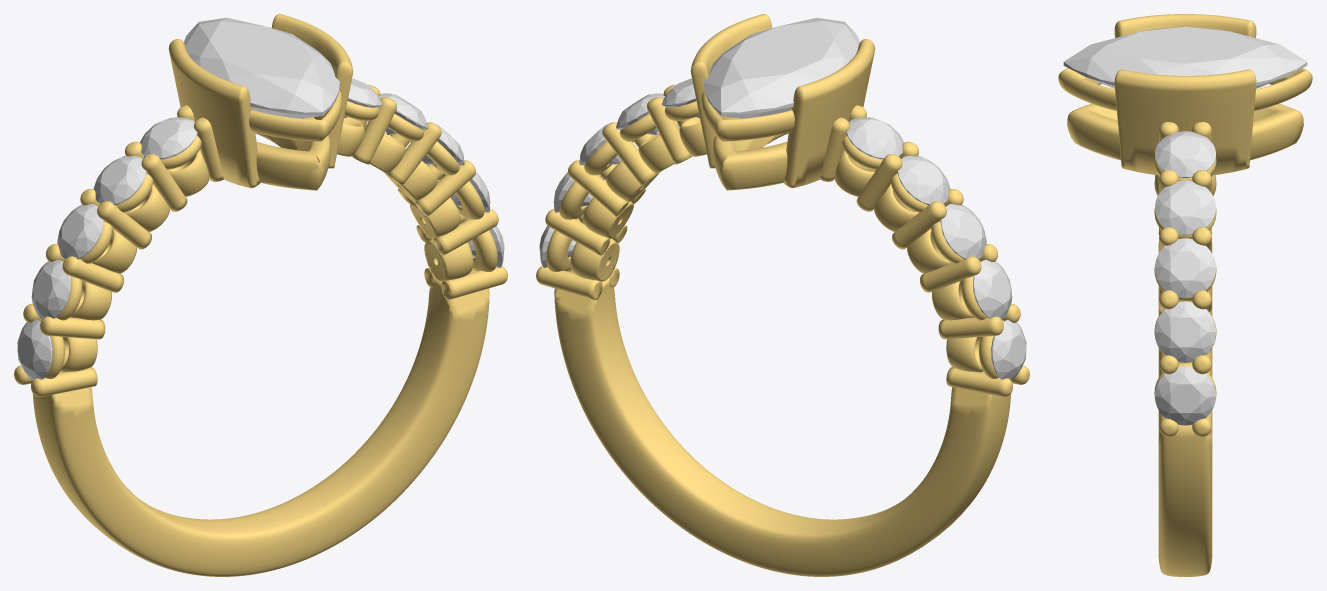
The model's file is diamond-marquise-yellowgold-halfmoonbezel-straightband-11stone.glb.
3 renders of one model, left to right at view 1: azimuth 30°, elevation 25°; view 2: azimuth 150°, elevation 25°; view 3: azimuth 270°, elevation 25°, orthographic.
Parts seen in each view (by area): view 1: metal.003, stone.002, side.022, side.023, side.021, side.024, side.020, side.028, side.029; view 2: metal.003, stone.002, side.022, side.023, side.021, side.024, side.020, side.028, side.029; view 3: metal.003, stone.002, side.026, side.027, side.025, side.028, side.029.
Boxes of the visible parts, left/top/right/bottom form: metal.003: left=14, top=14, right=507, bottom=576; stone.002: left=184, top=17, right=339, bottom=118; side.022: left=57, top=204, right=103, bottom=259; side.023: left=93, top=156, right=146, bottom=205; side.021: left=31, top=259, right=70, bottom=318; side.024: left=140, top=117, right=197, bottom=159; side.020: left=17, top=319, right=52, bottom=380; side.028: left=379, top=93, right=427, bottom=134; side.029: left=344, top=78, right=381, bottom=118; metal.003: left=536, top=14, right=1029, bottom=576; stone.002: left=704, top=17, right=859, bottom=118; side.022: left=940, top=204, right=986, bottom=259; side.023: left=897, top=156, right=950, bottom=205; side.021: left=973, top=259, right=1012, bottom=318; side.024: left=846, top=117, right=903, bottom=159; side.020: left=991, top=319, right=1026, bottom=380; side.028: left=616, top=93, right=664, bottom=134; side.029: left=662, top=78, right=699, bottom=118; metal.003: left=1058, top=14, right=1312, bottom=576; stone.002: left=1063, top=26, right=1307, bottom=88; side.026: left=1155, top=301, right=1215, bottom=362; side.027: left=1155, top=238, right=1215, bottom=298; side.025: left=1155, top=366, right=1215, bottom=425; side.028: left=1155, top=180, right=1215, bottom=235; side.029: left=1155, top=131, right=1215, bottom=177.
Bounding box in the file's own units: 22.1 × 22.94 × 10.4.
